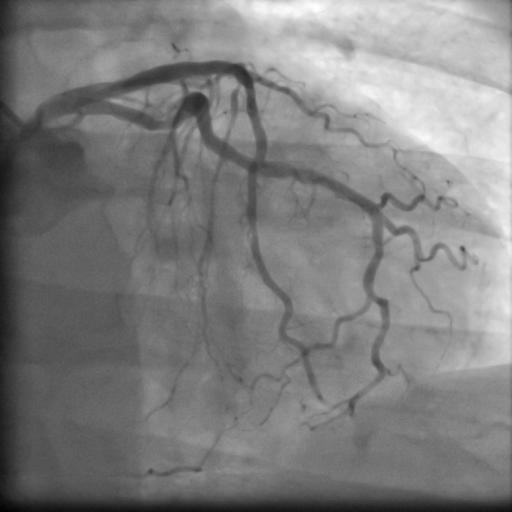Stenosis: (151, 115, 170, 132)
